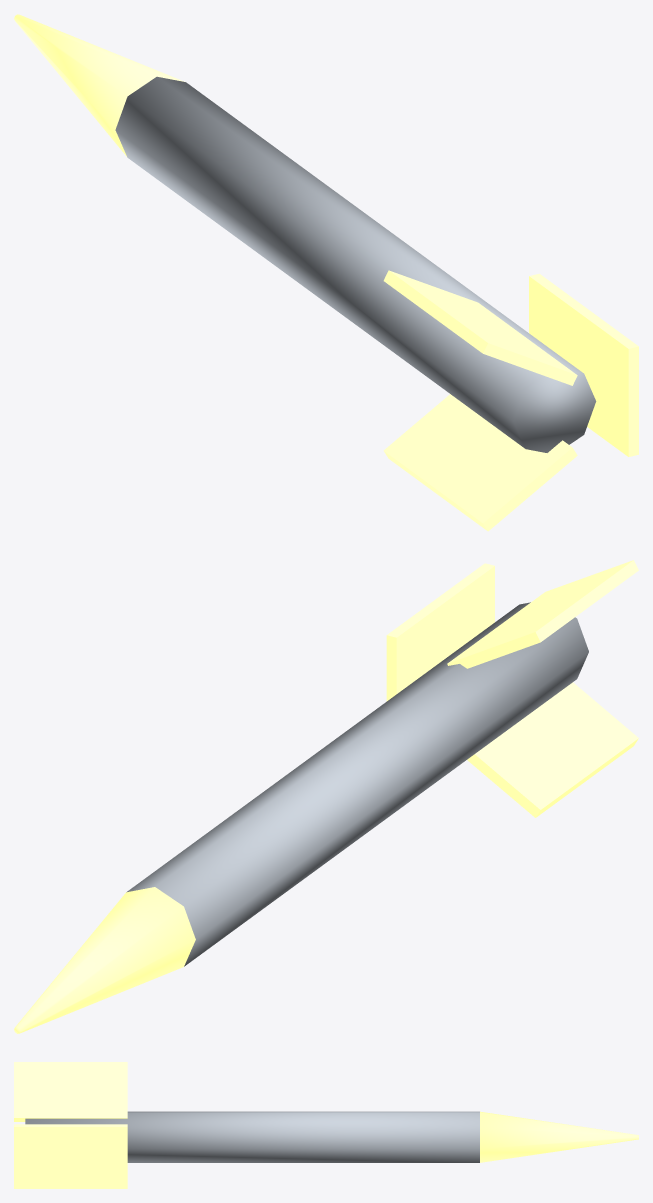
File: Needle.fbx
The picture shows the model from 3 angles, top to bottom: view 1: azimuth 30°, elevation 25°; view 2: azimuth 150°, elevation 25°; view 3: azimuth 270°, elevation 25°; orthographic projection. The views are drawn at different scales.
Parts seen in each view (by area): view 1: Silver_Shaft0, Emit_Vane2, Emit_Vane0, Emit_Point0, Emit_Vane1; view 2: Silver_Shaft0, Emit_Vane2, Emit_Point0, Emit_Vane0, Emit_Vane1; view 3: Silver_Shaft0, Emit_Vane0, Emit_Vane1, Emit_Point0.
Part boxes in pixels (x1,y1,x2,y2): Silver_Shaft0: [115, 76, 596, 452]; Emit_Vane2: [383, 394, 577, 531]; Emit_Vane0: [529, 273, 638, 456]; Emit_Point0: [14, 14, 184, 156]; Emit_Vane1: [383, 270, 577, 385]; Silver_Shaft0: [126, 602, 588, 966]; Emit_Vane2: [467, 682, 638, 817]; Emit_Point0: [14, 887, 195, 1033]; Emit_Vane0: [386, 563, 494, 701]; Emit_Vane1: [447, 560, 638, 668]; Silver_Shaft0: [25, 1111, 479, 1162]; Emit_Vane0: [14, 1124, 127, 1188]; Emit_Vane1: [14, 1062, 127, 1121]; Emit_Point0: [480, 1111, 638, 1162].
Bounding box in the file's own units: 0.0452 × 0.275 × 0.0522.
